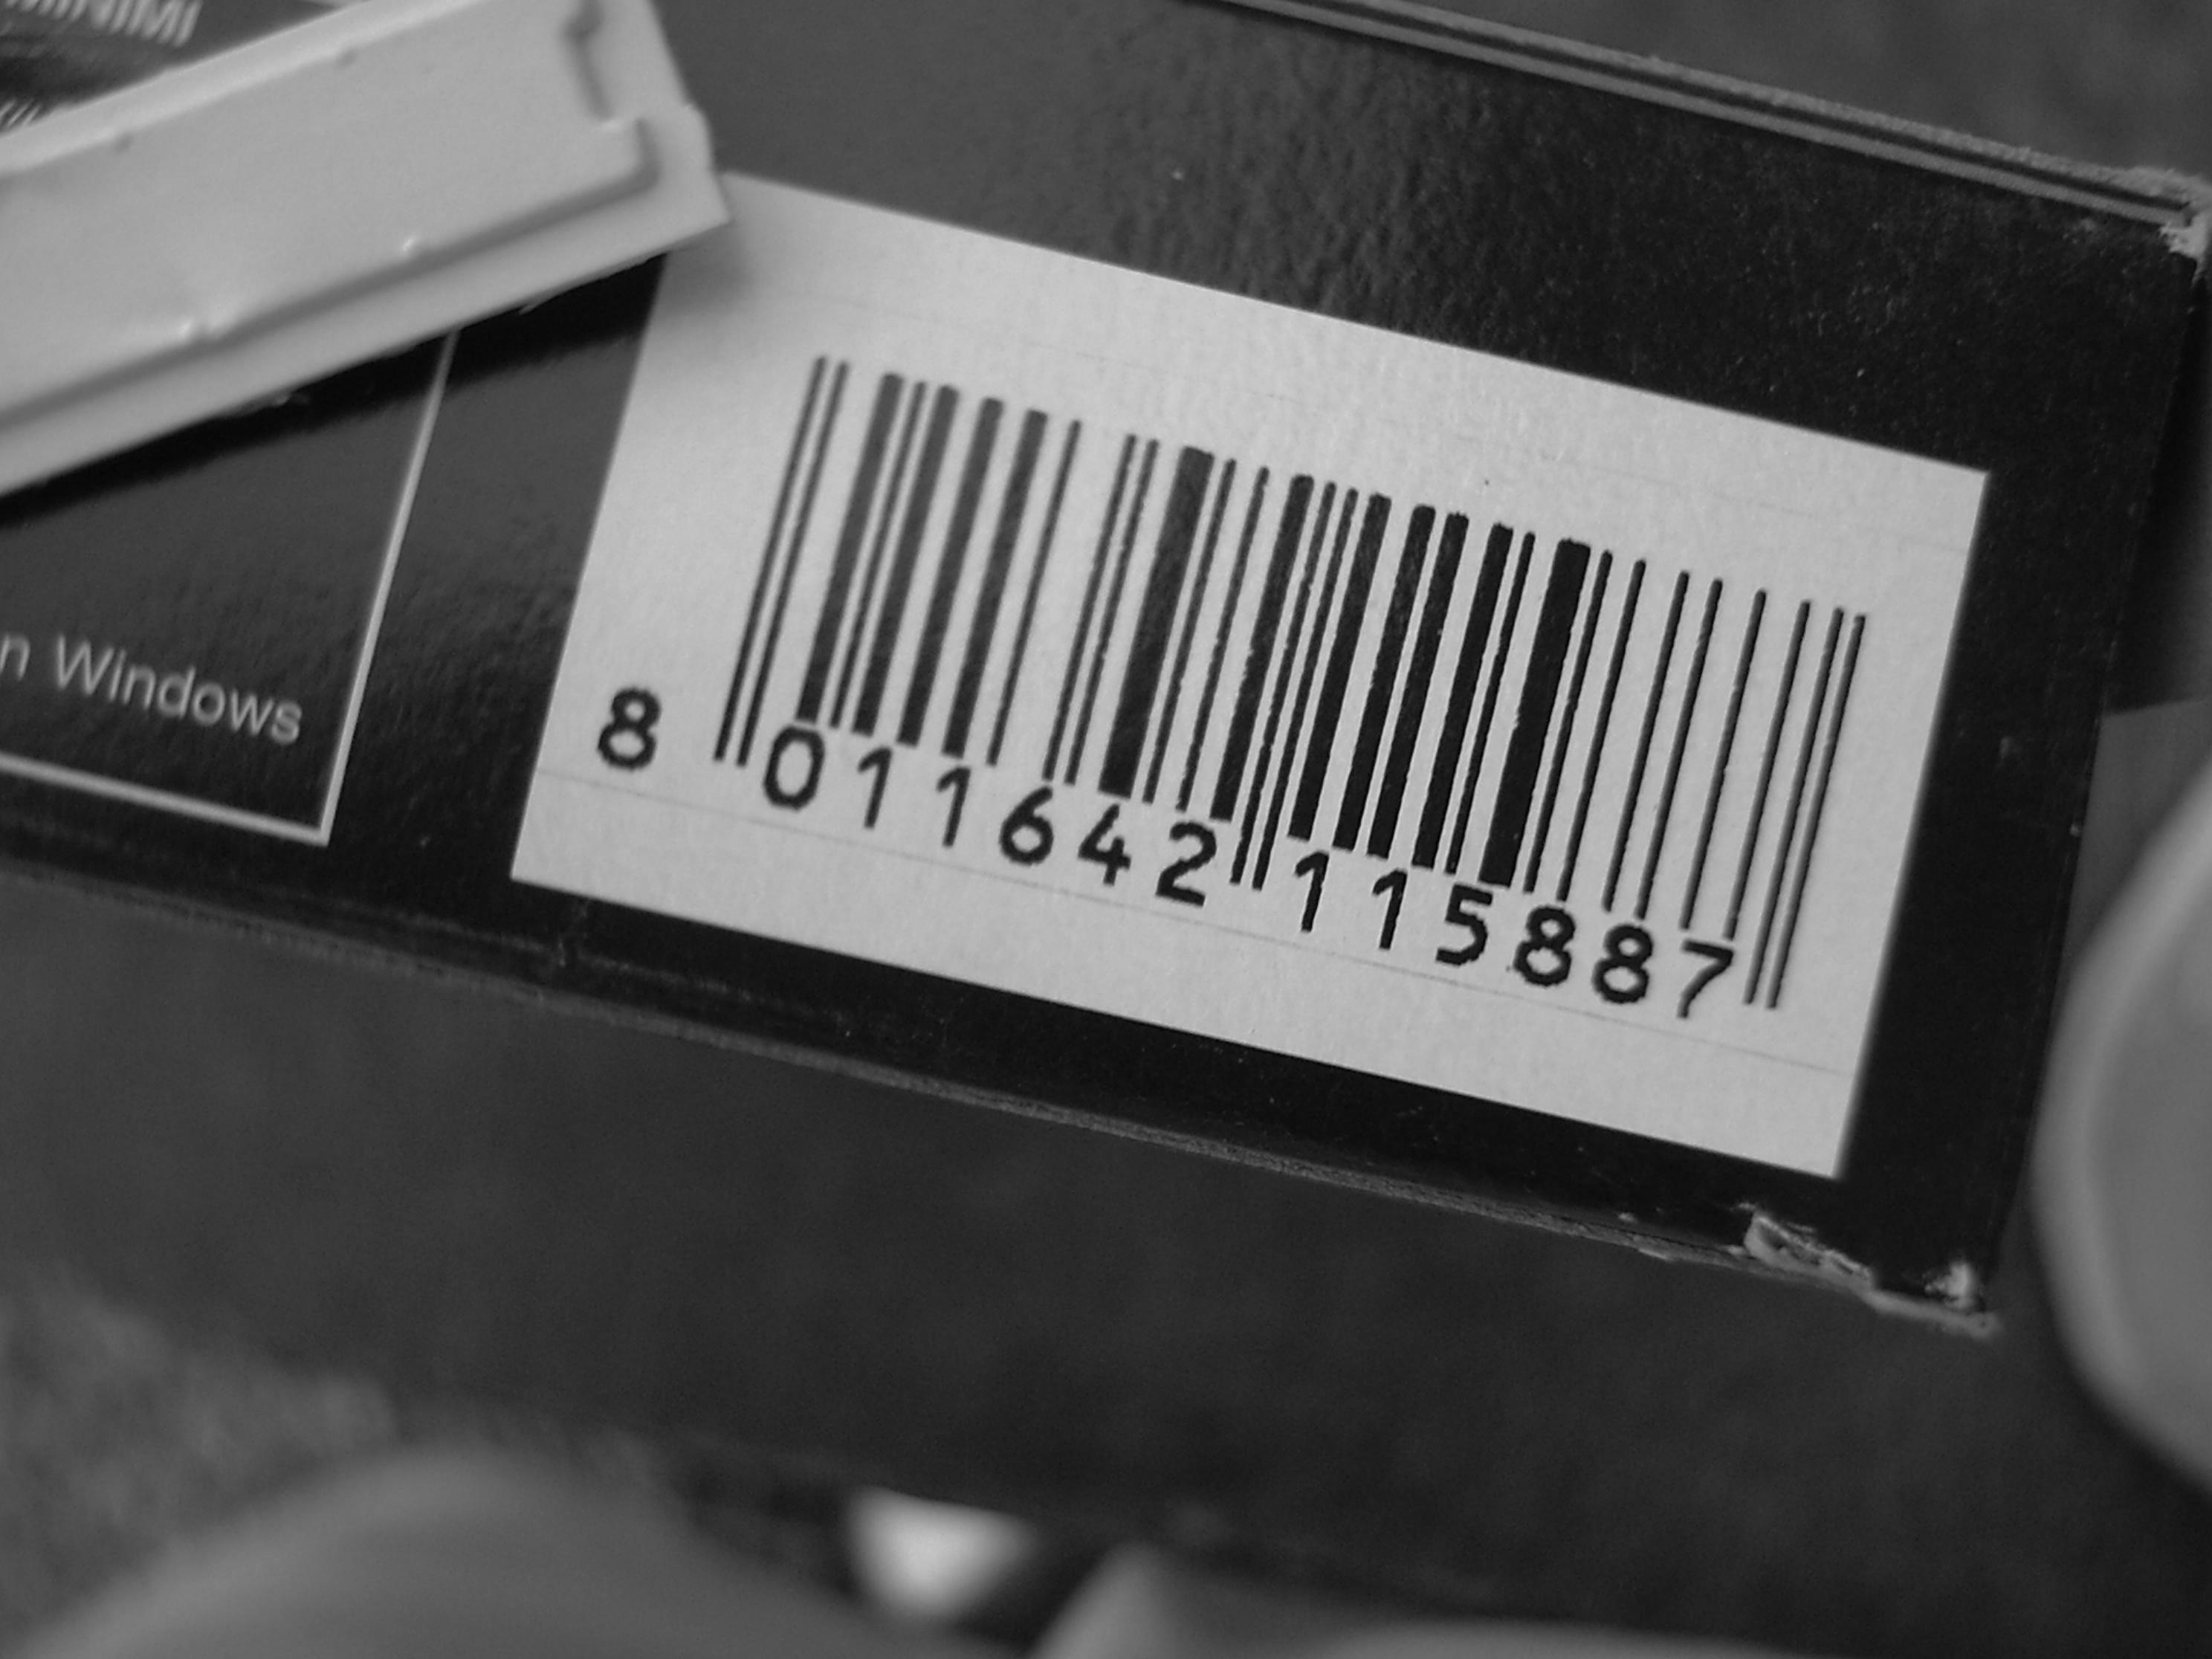Barcode: (772, 328, 1827, 1037)
